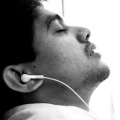male: (34, 14, 112, 98)
